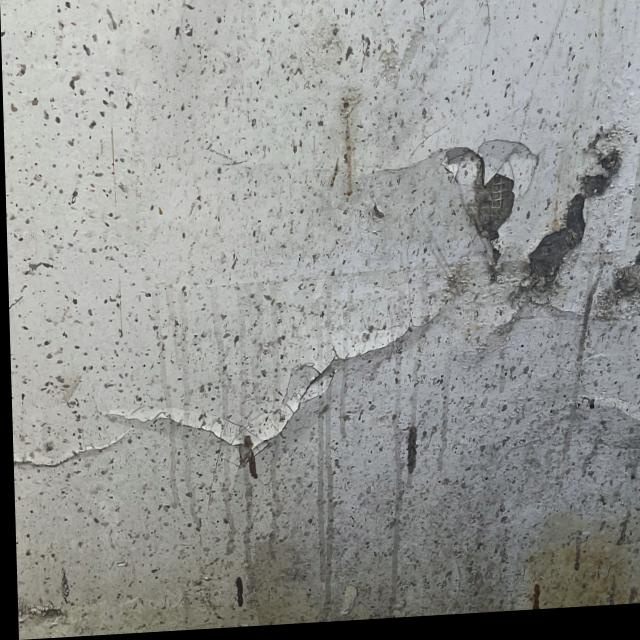crack: (14, 301, 449, 490)
spalling: (446, 107, 640, 330)
